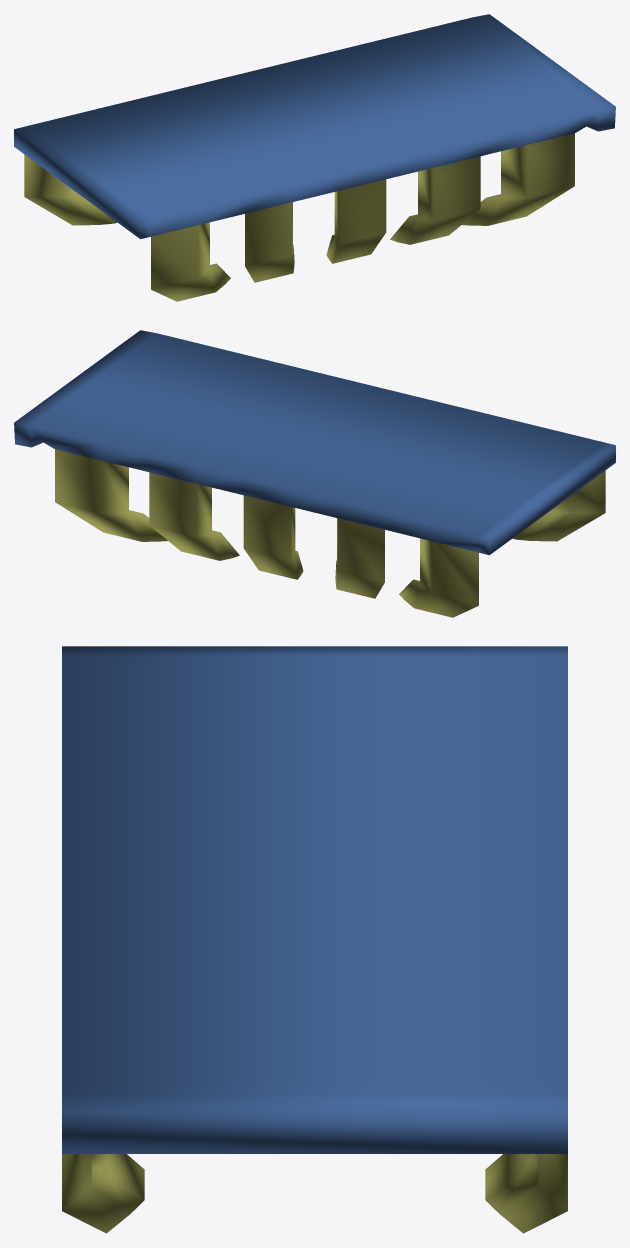
The model's file is platform1.obj.
3 views of the same model, one above another, from view 1: azimuth 30°, elevation 25°; view 2: azimuth 150°, elevation 25°; view 3: azimuth 270°, elevation 25° (orthographic). The views are drawn at different scales.
Visible parts, largest first — view 1: Cube; view 2: Cube; view 3: Cube.
Boxes of the visible parts, bbox=[...] form: Cube: bbox=[14, 14, 615, 301]; Cube: bbox=[14, 330, 615, 617]; Cube: bbox=[62, 646, 567, 1233].
Bounding box in the file's own units: 28.85 × 5.78 × 13.29.
